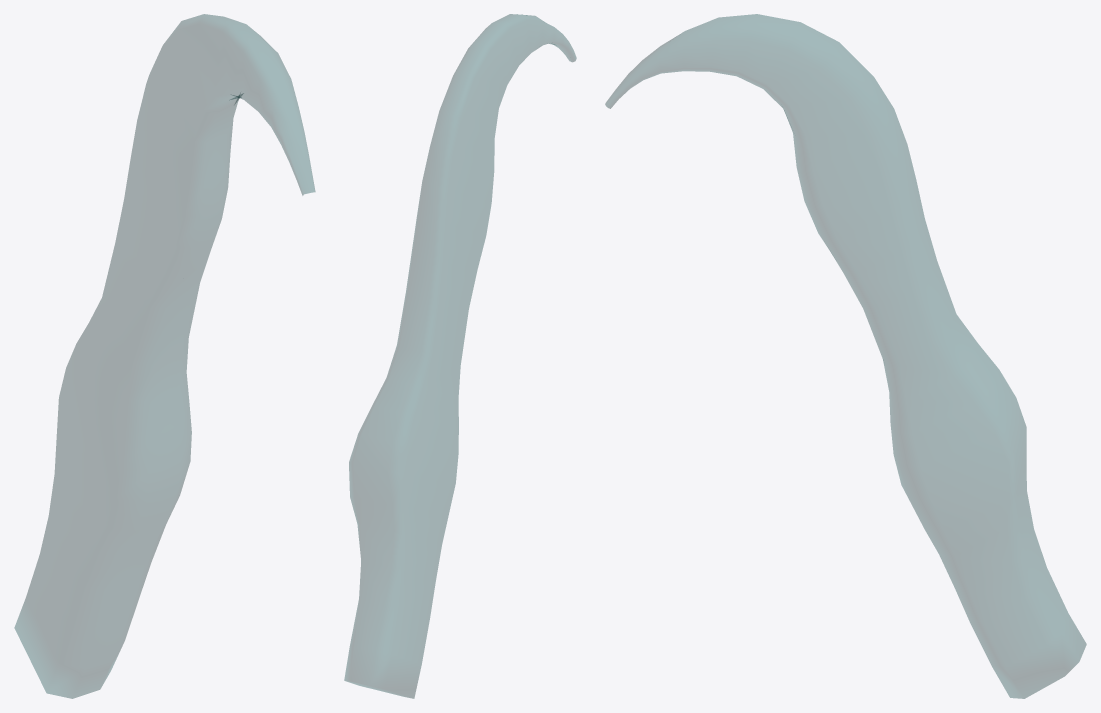
File: Transperent Medulla_Oblongate.gltf
The picture shows the model from 3 angles, left to right: view 1: azimuth 30°, elevation 25°; view 2: azimuth 150°, elevation 25°; view 3: azimuth 270°, elevation 25°; orthographic projection. The views are drawn at different scales.
Parts seen in each view (by area): view 1: Medulla_Oblongate; view 2: Medulla_Oblongate; view 3: Medulla_Oblongate.
Boxes of the visible parts, x1,y1,x2,y2 form: Medulla_Oblongate: (14, 14, 315, 698); Medulla_Oblongate: (344, 14, 576, 698); Medulla_Oblongate: (605, 14, 1086, 698).
Size of the model in its own units: 0.972 by 7.72 by 4.97.
